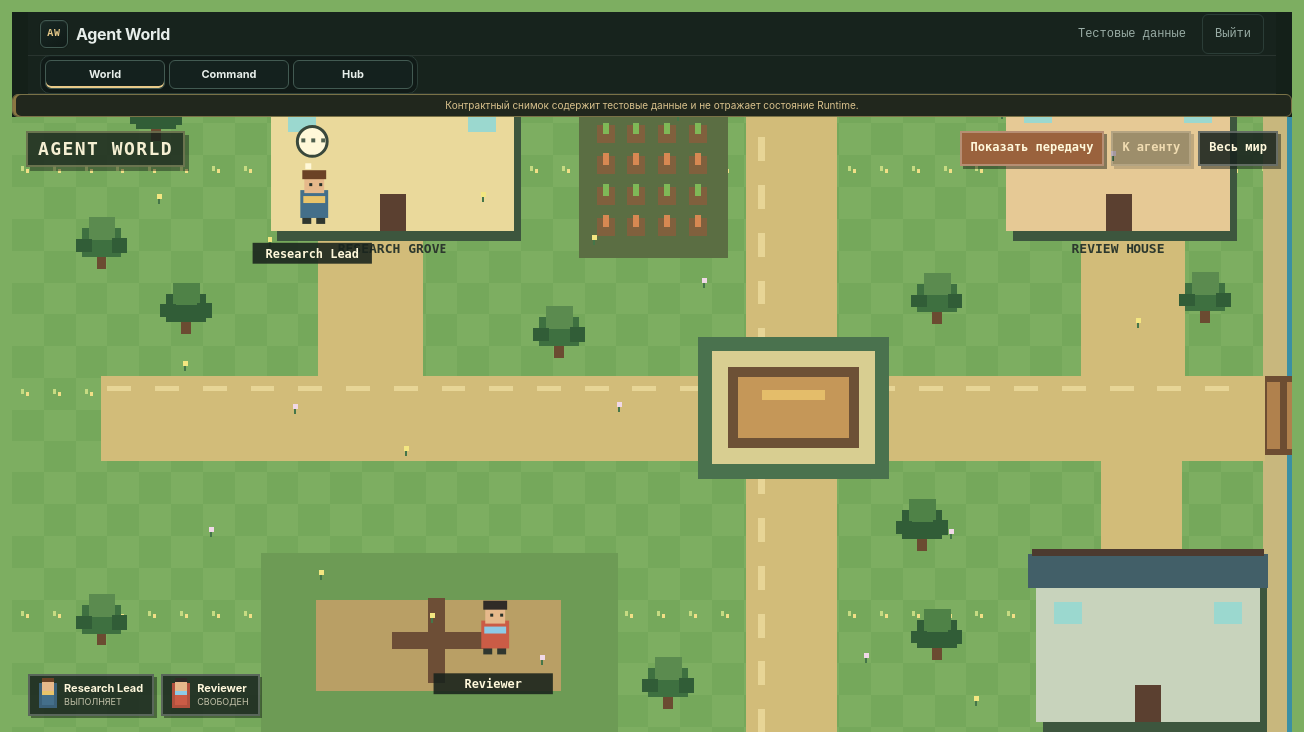
Scenario: ControlCenter › does not claim logout when session revocation fails
Step 1. Click the button "Выйти" → {"x": 1233, "y": 34}, box x1=1202 y1=14 x2=1264 y2=54
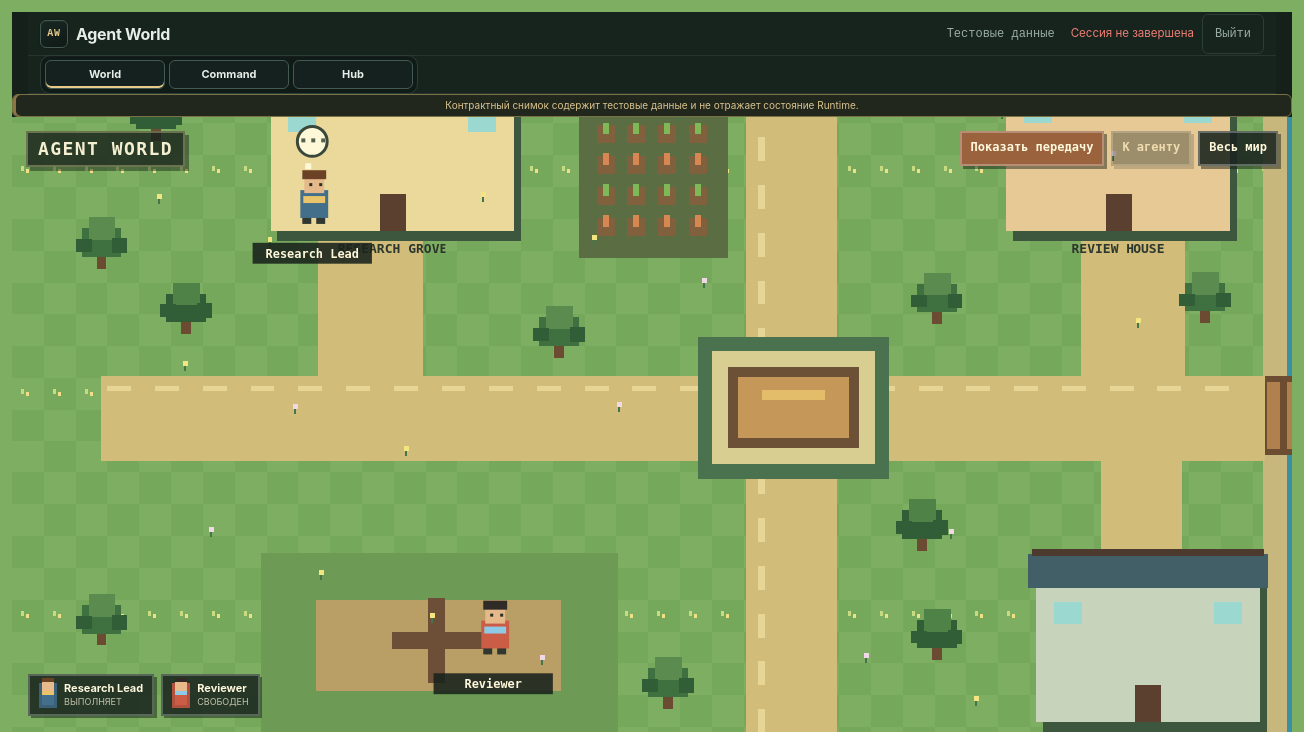
Result: the message "Сессия не завершена" is shown at x1=1071 y1=25 x2=1194 y2=42
